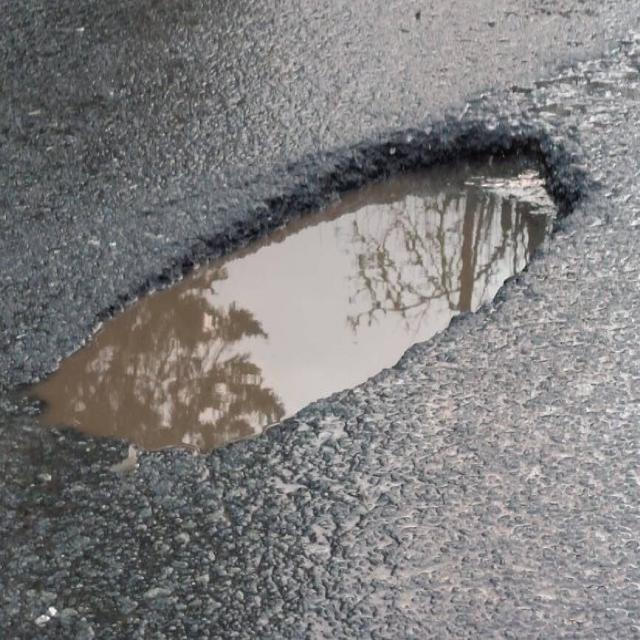Pothole: (17, 125, 573, 457)
